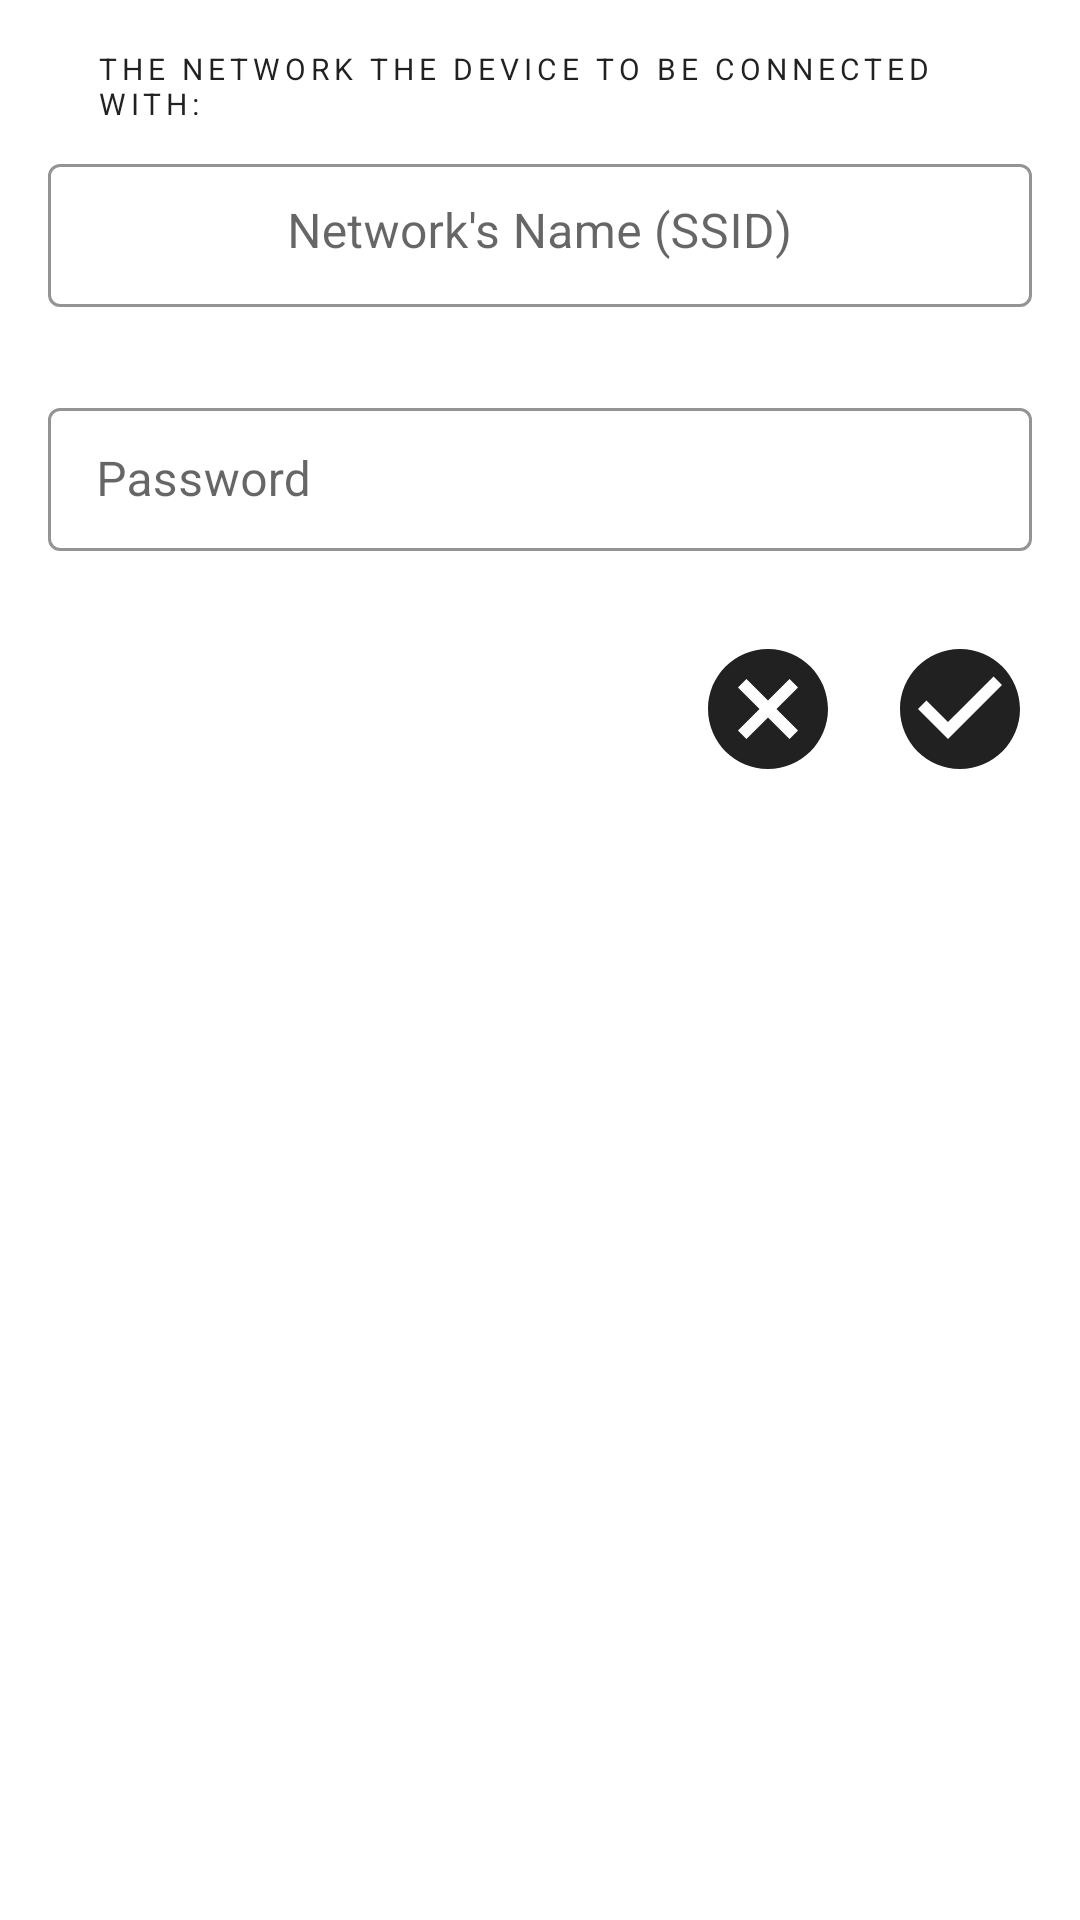

Named icons in this screenshot (1080*1920) and their centers, (x,y):
cancel: (768,709)
check circle: (960,709)
